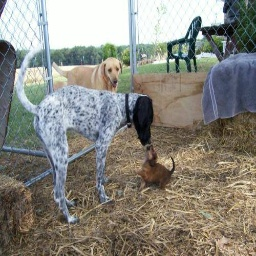dog: (15, 42, 178, 223)
